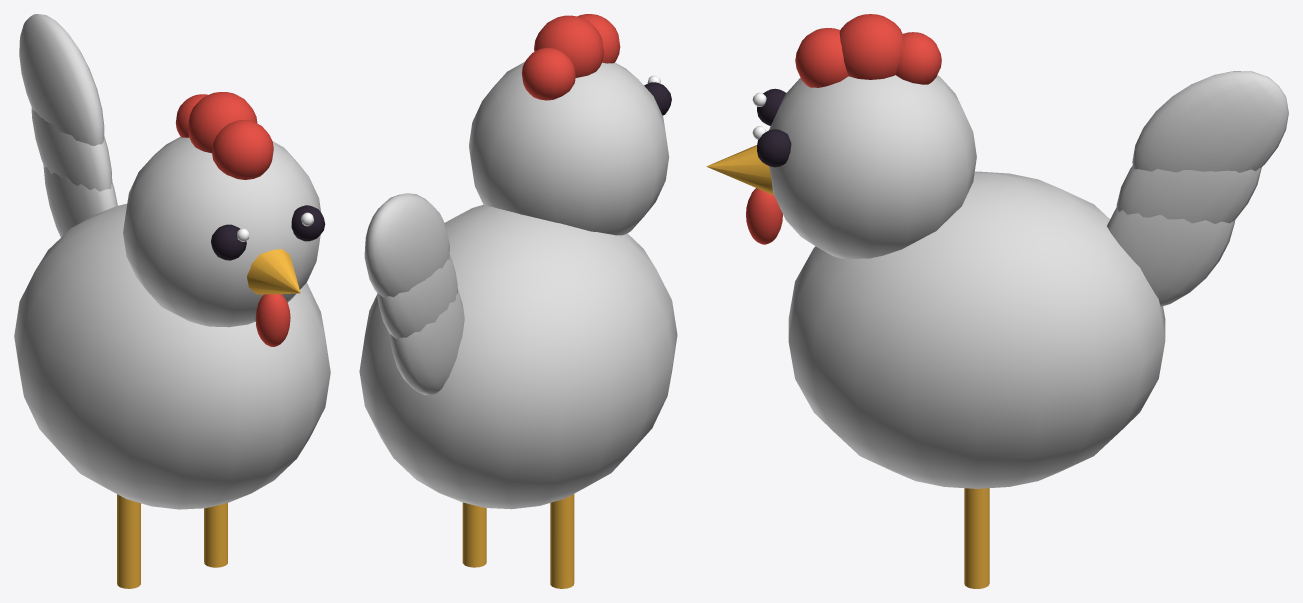
File: pet_rooster_ph.glb
3 renders of one model, left to right at view 1: azimuth 30°, elevation 25°; view 2: azimuth 150°, elevation 25°; view 3: azimuth 270°, elevation 25°, orthographic. The views are drawn at different scales.
Parts seen in each view (by area): view 1: pet_rooster; view 2: pet_rooster; view 3: pet_rooster.
Boxes of the visible parts, left/top/right/bottom form: pet_rooster: left=14, top=14, right=330, bottom=588; pet_rooster: left=359, top=14, right=677, bottom=588; pet_rooster: left=706, top=14, right=1288, bottom=588.
Bounding box in the file's own units: 0.3 × 0.565 × 0.5487.
